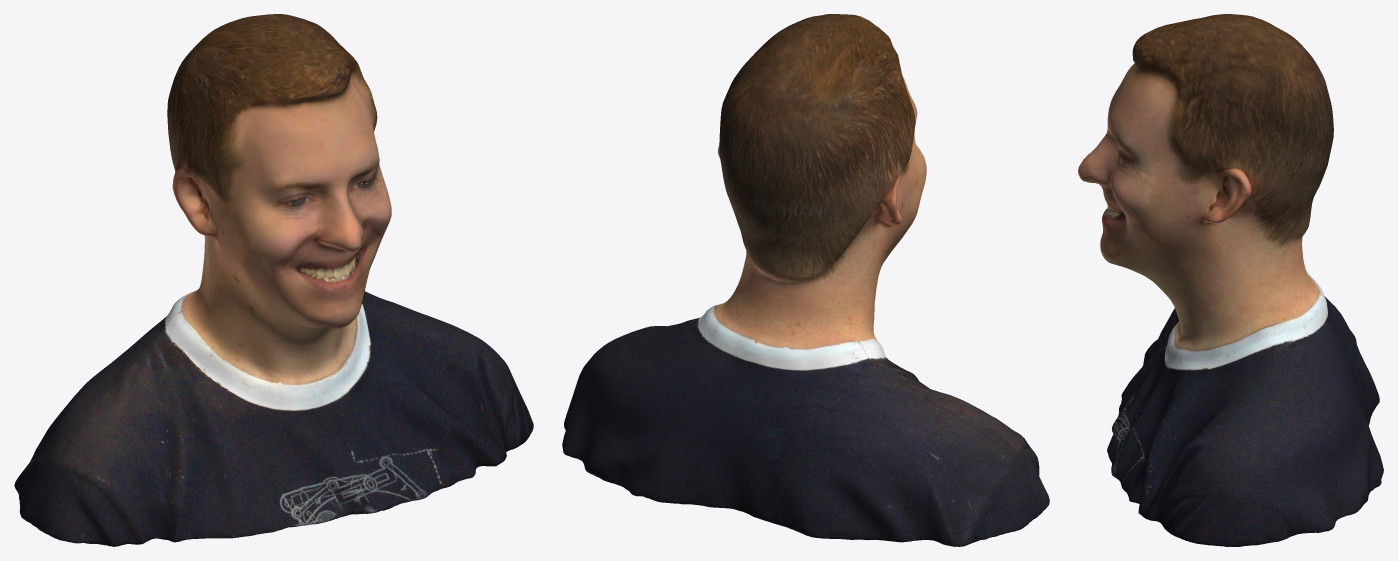
File: TEST_BUST-simp20K(-5Y).obj
3 views of the same model, side by side, from view 1: azimuth 30°, elevation 25°; view 2: azimuth 150°, elevation 25°; view 3: azimuth 270°, elevation 25° (orthographic). The views are drawn at different scales.
Bounding box in the file's own units: 97.42 × 87.57 × 58.17.
Materials: 1 (1 with a texture image).
